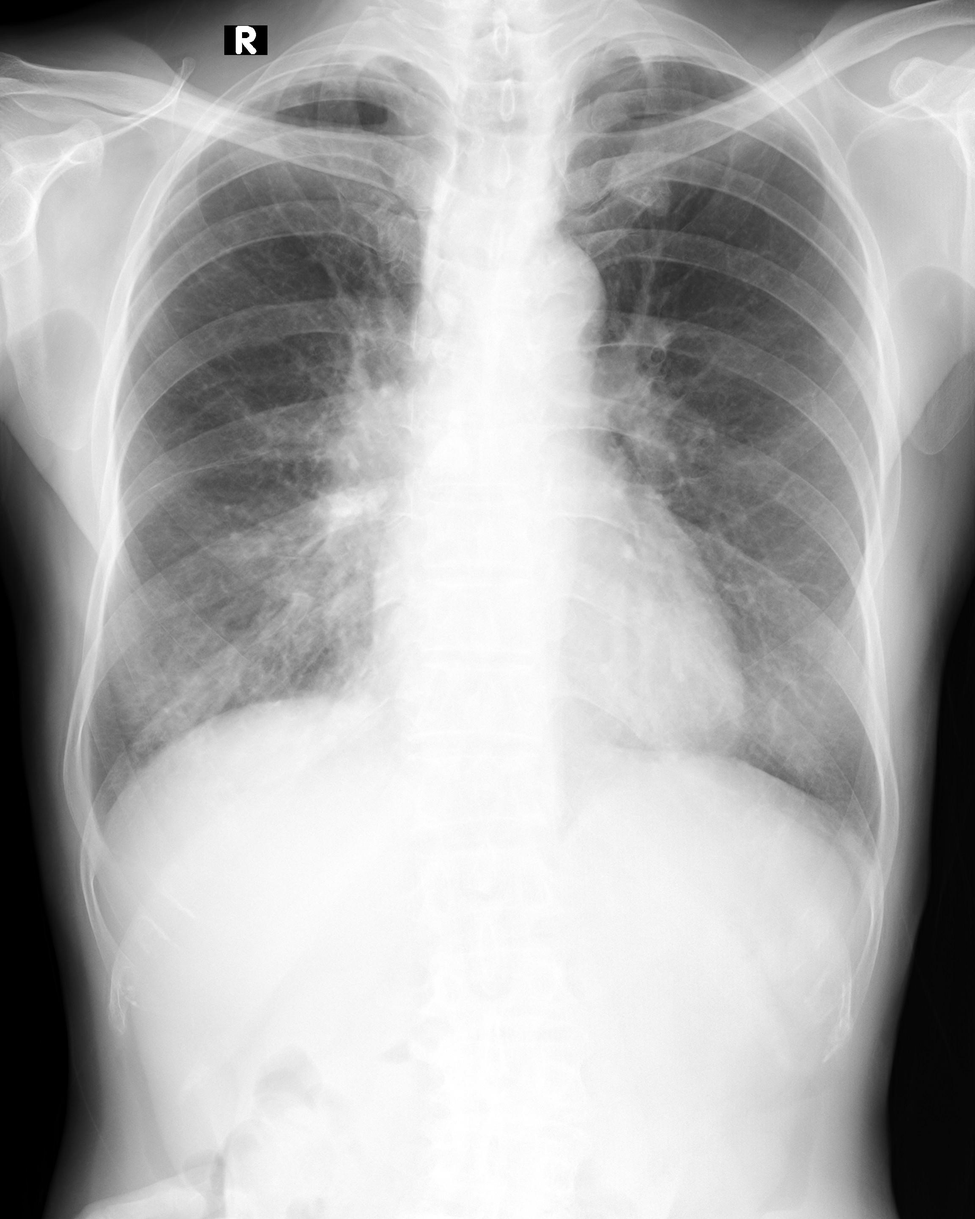Pleural thickening: (232, 49, 399, 111)
